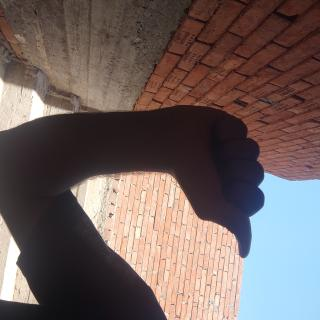DAD: (69, 68, 201, 225)
